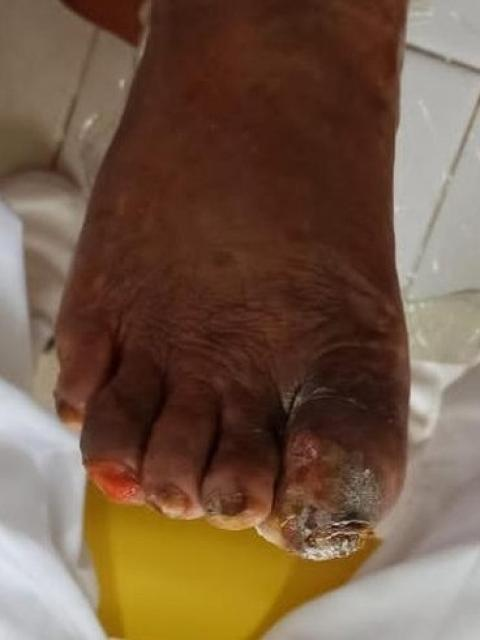wound: (272, 427, 388, 561), (206, 479, 254, 525), (87, 458, 140, 499), (142, 480, 192, 516)
